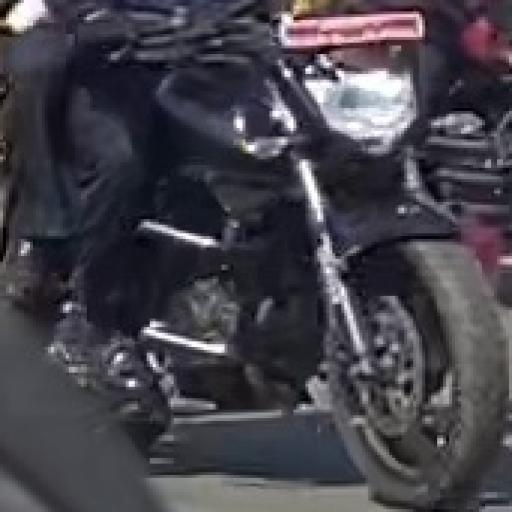license_plate: (277, 11, 429, 51)
